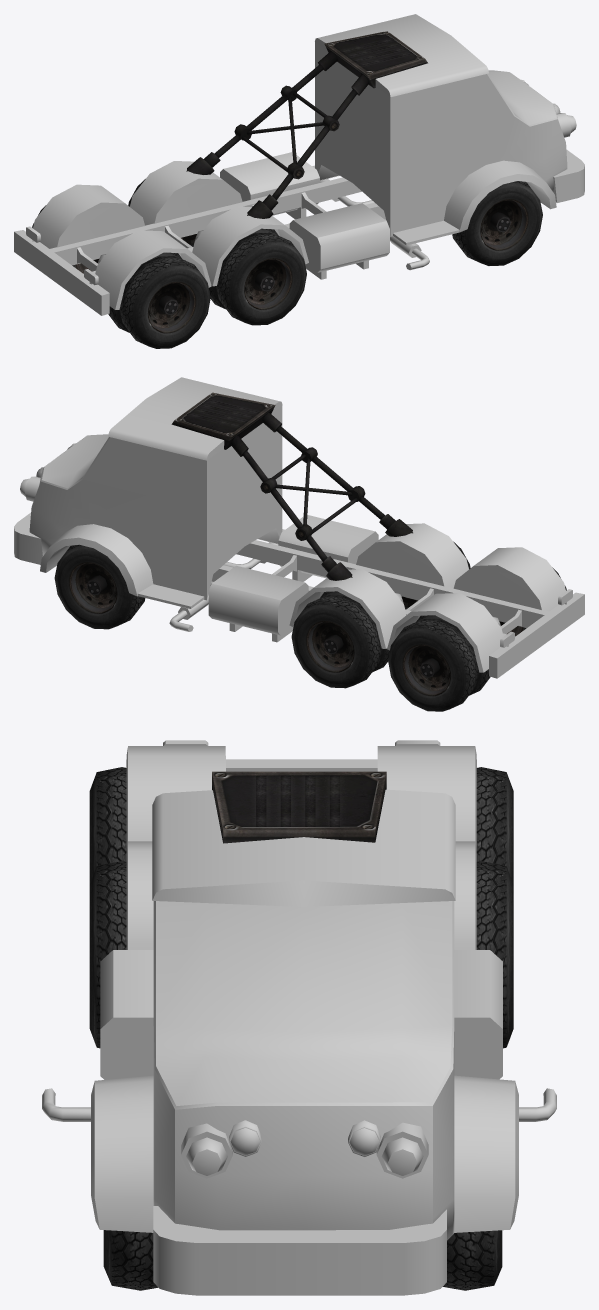
The picture shows the model from 3 angles, top to bottom: view 1: azimuth 30°, elevation 25°; view 2: azimuth 150°, elevation 25°; view 3: azimuth 270°, elevation 25°; orthographic projection. The views are drawn at different scales.
Parts seen in each view (by area): view 1: Car, Mount, Wheel003, Wheel006, Wheel002; view 2: Car, Mount, Wheel001, Wheel005, Wheel004; view 3: Car, Mount, Wheel006, Wheel005, Wheel003, Wheel001, Wheel004, Wheel002.
Part boxes in pixels (box(x1,y1,x2,y2)): Car: box(14, 14, 584, 315); Mount: box(186, 31, 427, 218); Wheel003: box(108, 252, 210, 348); Wheel006: box(209, 228, 306, 325); Wheel002: box(452, 181, 542, 265); Car: box(14, 377, 584, 678); Mount: box(171, 392, 412, 580); Wheel001: box(388, 615, 490, 711); Wheel005: box(291, 591, 389, 688); Wheel004: box(54, 544, 145, 629); Car: box(42, 740, 556, 1295); Mount: box(212, 771, 386, 843); Wheel006: box(89, 861, 126, 1048); Wheel005: box(476, 861, 513, 1048); Wheel003: box(89, 767, 126, 884); Wheel001: box(476, 767, 513, 884); Wheel004: box(443, 1230, 502, 1290); Wheel002: box(103, 1230, 157, 1290).
Size of the model in its own units: 357 by 138 by 160.
